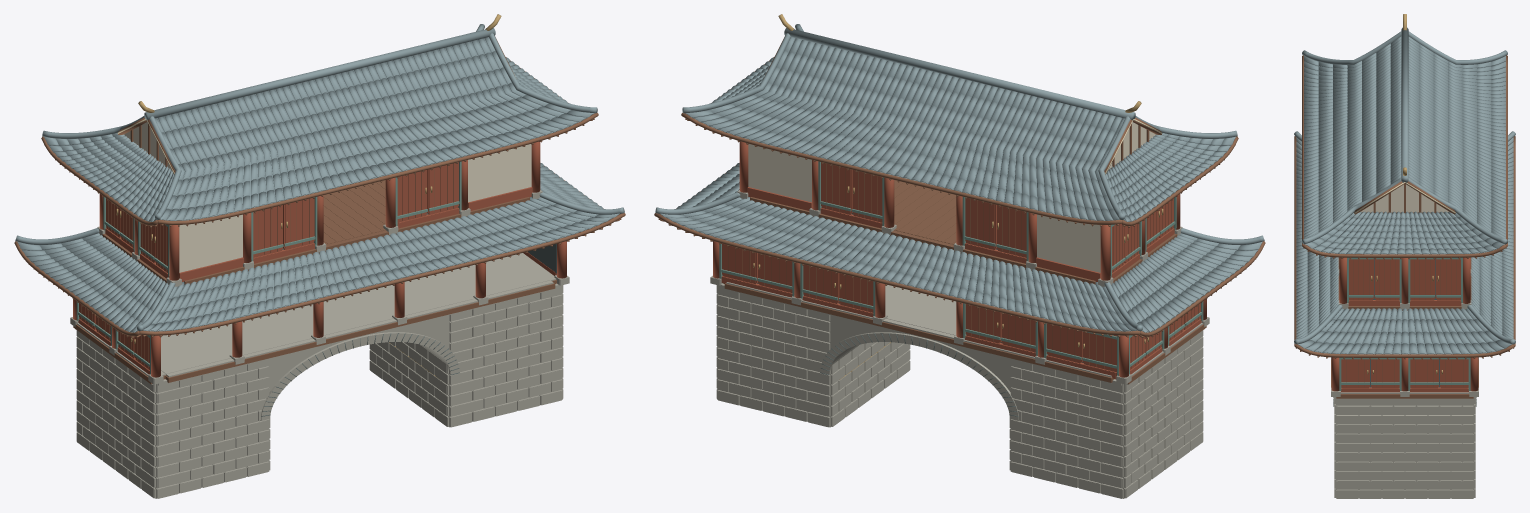
The model's file is Gate_LOD0.fbx.
3 views of the same model, side by side, from view 1: azimuth 30°, elevation 25°; view 2: azimuth 150°, elevation 25°; view 3: azimuth 270°, elevation 25° (orthographic). The views are drawn at different scales.
Visible parts, largest first — view 1: Gate_Detail0_Roof, Gate_Detail0_Stone, Gate_Detail0_Vermilion, Gate_Detail0_Timber, Gate_Detail0_Plaster, Gate_Detail0_Jade, Gate_Detail0_Recess; view 2: Gate_Detail0_Roof, Gate_Detail0_Stone, Gate_Detail0_Vermilion, Gate_Detail0_Timber, Gate_Detail0_Plaster, Gate_Detail0_Jade; view 3: Gate_Detail0_Roof, Gate_Detail0_Stone, Gate_Detail0_Vermilion, Gate_Detail0_Timber, Gate_Detail0_Jade, Gate_Detail0_Plaster.
Part boxes in pixels (bbox=[...]): Gate_Detail0_Roof: bbox=[15, 24, 624, 332]; Gate_Detail0_Stone: bbox=[70, 190, 569, 498]; Gate_Detail0_Vermilion: bbox=[73, 141, 566, 377]; Gate_Detail0_Timber: bbox=[14, 37, 625, 384]; Gate_Detail0_Plaster: bbox=[124, 122, 531, 272]; Gate_Detail0_Jade: bbox=[76, 148, 461, 374]; Gate_Detail0_Recess: bbox=[261, 213, 556, 416]; Gate_Detail0_Roof: bbox=[655, 24, 1264, 332]; Gate_Detail0_Stone: bbox=[710, 190, 1209, 498]; Gate_Detail0_Vermilion: bbox=[713, 141, 1206, 378]; Gate_Detail0_Timber: bbox=[654, 37, 1265, 384]; Gate_Detail0_Plaster: bbox=[748, 122, 1155, 272]; Gate_Detail0_Jade: bbox=[719, 148, 1203, 375]; Gate_Detail0_Roof: bbox=[1294, 27, 1515, 354]; Gate_Detail0_Stone: bbox=[1331, 269, 1478, 498]; Gate_Detail0_Vermilion: bbox=[1331, 257, 1478, 392]; Gate_Detail0_Timber: bbox=[1294, 55, 1515, 398]; Gate_Detail0_Jade: bbox=[1339, 257, 1470, 390]; Gate_Detail0_Plaster: bbox=[1361, 184, 1448, 212].
Bounding box in the file's own units: 32.44 × 23.07 × 14.48.
